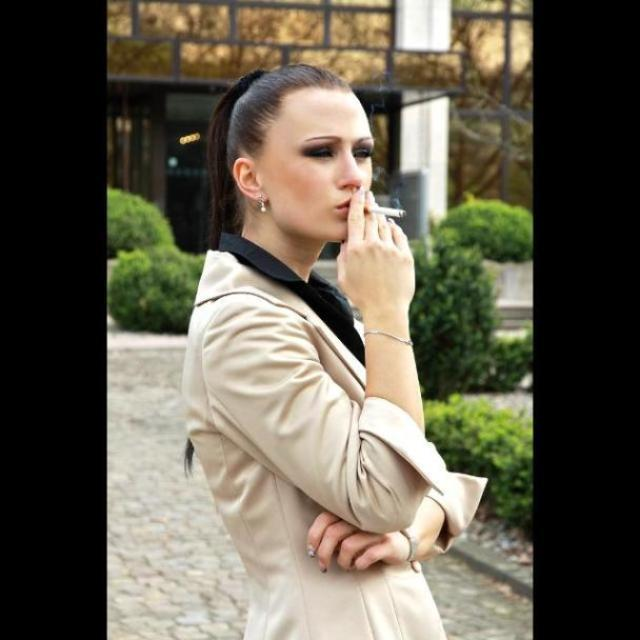rokok: (358, 200, 408, 220)
